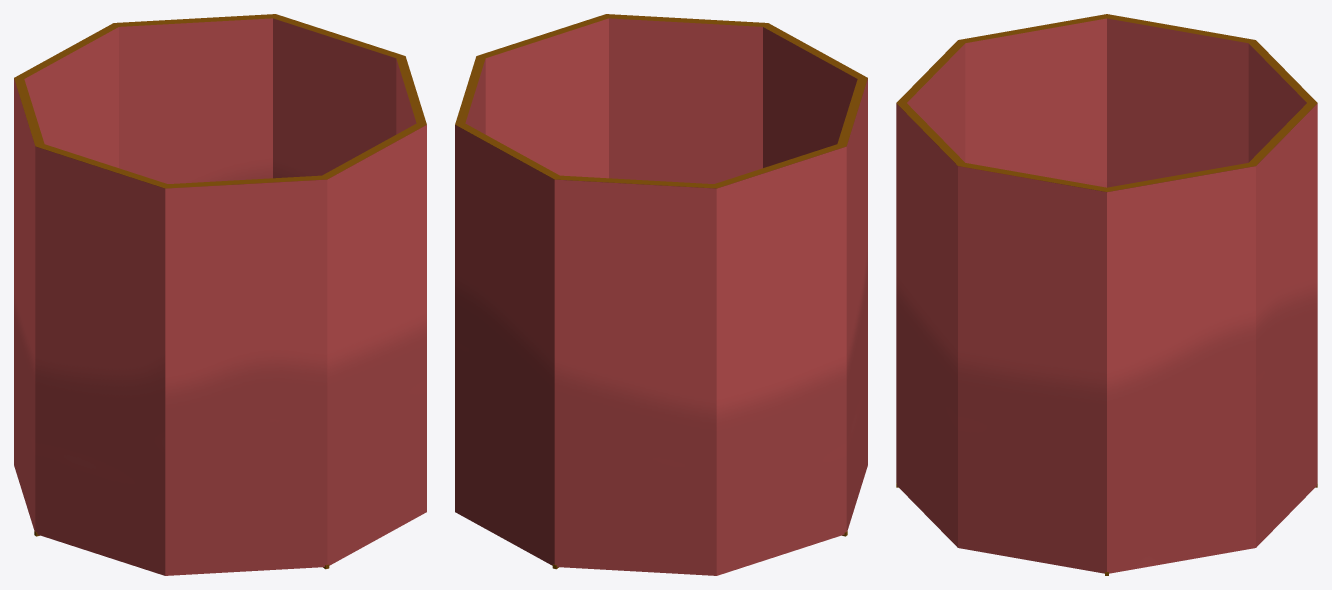
The model's file is _Lantern1.fbx.
3 views of the same model, side by side, from view 1: azimuth 30°, elevation 25°; view 2: azimuth 150°, elevation 25°; view 3: azimuth 270°, elevation 25° (orthographic).
Parts seen in each view (by area): view 1: Lantern1; view 2: Lantern1; view 3: Lantern1.
Part boxes in pixels (box(x1,y1,x2,y2)): Lantern1: box(14, 14, 426, 575); Lantern1: box(455, 14, 867, 575); Lantern1: box(896, 14, 1317, 575).
Bounding box in the file's own units: 200 × 200 × 201.
